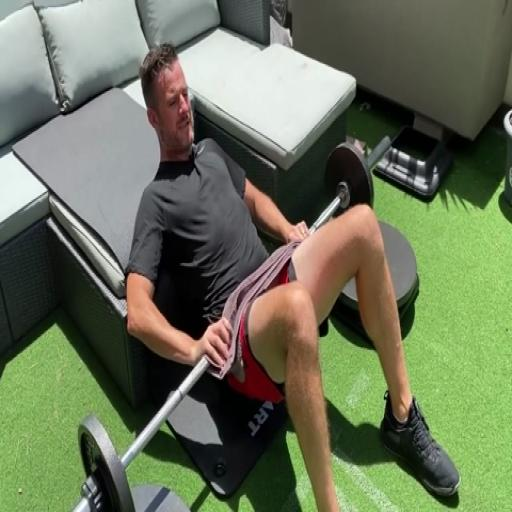exercise: (123, 41, 464, 511)
